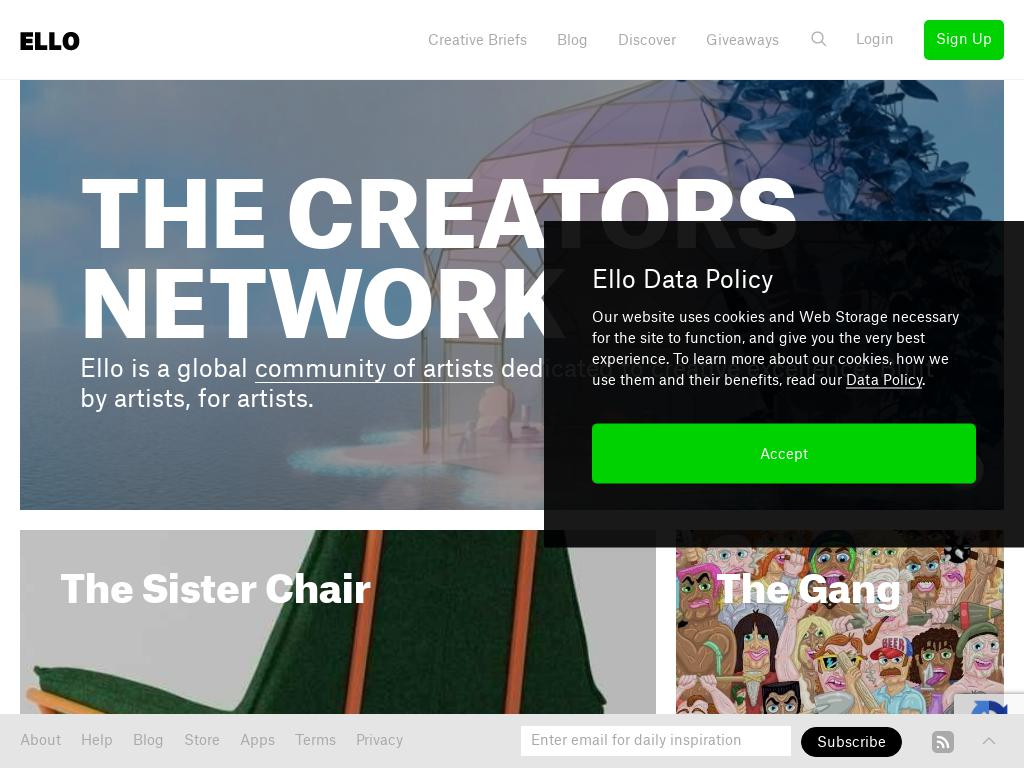button: (592, 423, 976, 484), (778, 450, 984, 490), (255, 358, 494, 383), (428, 21, 527, 61), (924, 20, 1004, 60), (801, 726, 902, 757), (706, 21, 779, 61), (618, 21, 676, 61), (856, 20, 894, 60), (356, 731, 423, 753), (20, 28, 80, 52), (20, 731, 81, 753), (295, 731, 356, 753), (557, 21, 588, 61), (184, 731, 240, 753), (846, 373, 922, 389), (240, 731, 295, 753), (81, 731, 133, 753), (133, 731, 184, 753), (809, 21, 829, 61), (927, 729, 959, 753), (979, 731, 1004, 751)
field: (521, 726, 791, 756)
heading: (80, 175, 944, 355), (60, 570, 616, 612), (716, 570, 964, 612), (592, 268, 976, 293)
iframe: (954, 694, 1024, 754)
image: (20, 80, 1004, 510), (20, 530, 656, 768), (20, 530, 656, 768), (676, 530, 1004, 768), (676, 530, 1004, 768), (944, 450, 984, 490), (20, 30, 80, 51), (932, 730, 954, 753), (809, 28, 829, 49), (979, 730, 999, 751)
text: (80, 358, 934, 412), (592, 310, 959, 388), (80, 358, 255, 382), (428, 21, 527, 61), (706, 21, 779, 61), (618, 21, 676, 61), (936, 20, 992, 60), (829, 21, 877, 61), (856, 20, 894, 60), (854, 461, 929, 479), (557, 21, 588, 61), (356, 731, 403, 753), (778, 462, 844, 477), (20, 731, 61, 753), (295, 731, 336, 753), (184, 731, 220, 753), (240, 731, 275, 753), (81, 731, 113, 753), (133, 731, 164, 753), (922, 373, 925, 388)
